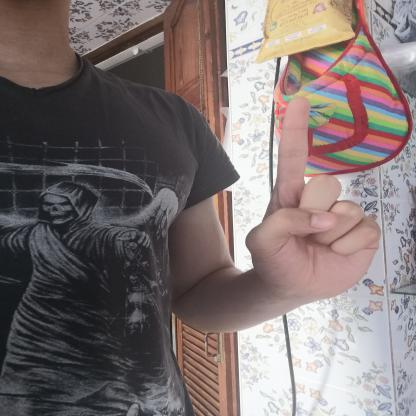BAA: (231, 87, 402, 314)
